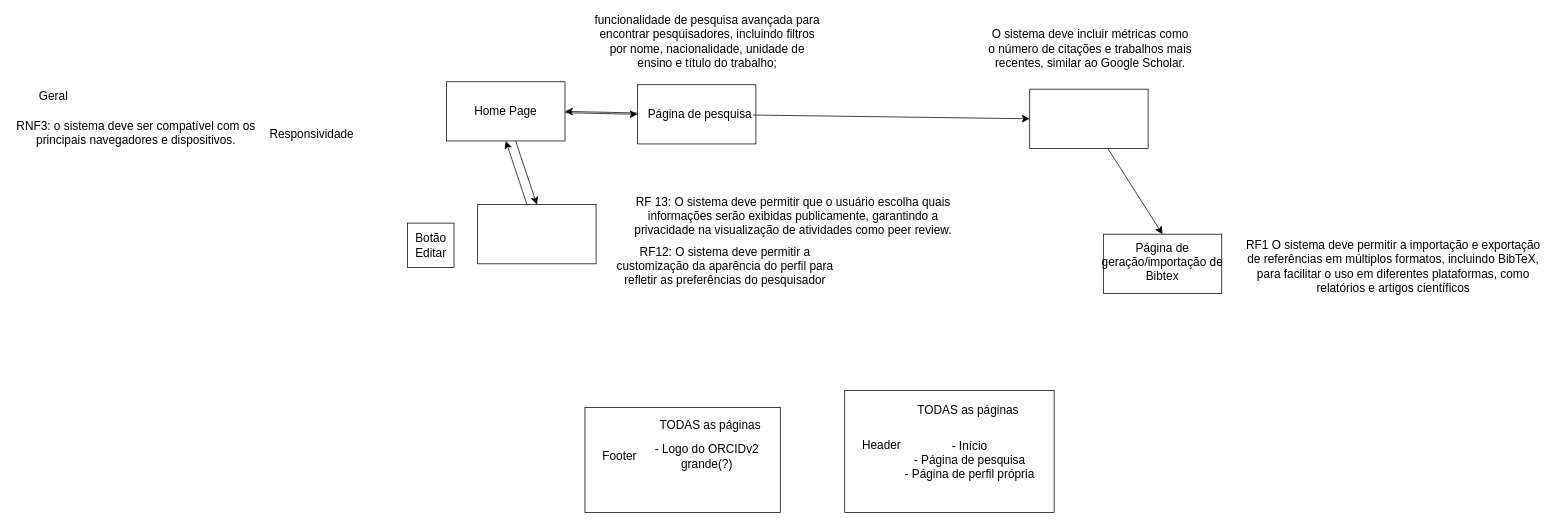
Some shapes in this 1559 by 525 pixel diagram are drawn without their labels. The shapes that lost their labels are listed below. From the top down, each one's centre as x and y in pixels, then its label:
point (1088, 118): Página de perfil público
point (536, 234): Página de perfil própria
